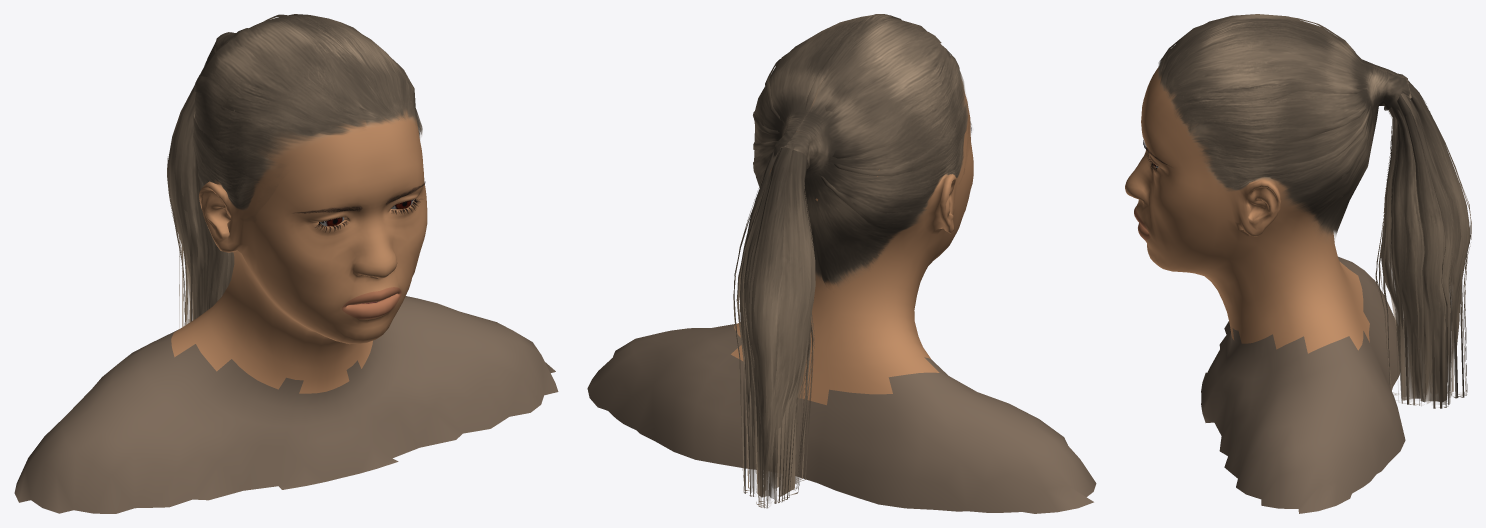
Rendered from neutral-07.glb.
3 renders of one model, left to right at view 1: azimuth 30°, elevation 25°; view 2: azimuth 150°, elevation 25°; view 3: azimuth 270°, elevation 25°, orthographic. The views are drawn at different scales.
Parts seen in each view (by area): view 1: mpfb-face, mpfb-face.ponytail01; view 2: mpfb-face, mpfb-face.ponytail01; view 3: mpfb-face, mpfb-face.ponytail01.
Part boxes in pixels (x1,y1,x2,y2): mpfb-face: (14,110,558,513); mpfb-face.ponytail01: (167,14,422,328); mpfb-face: (587,80,1096,513); mpfb-face.ponytail01: (733,14,968,508); mpfb-face: (1125,67,1405,513); mpfb-face.ponytail01: (1157,14,1471,408).
Size of the model in its own units: 0.4444 by 0.3378 by 0.2808.
9 materials, 6 textured.
